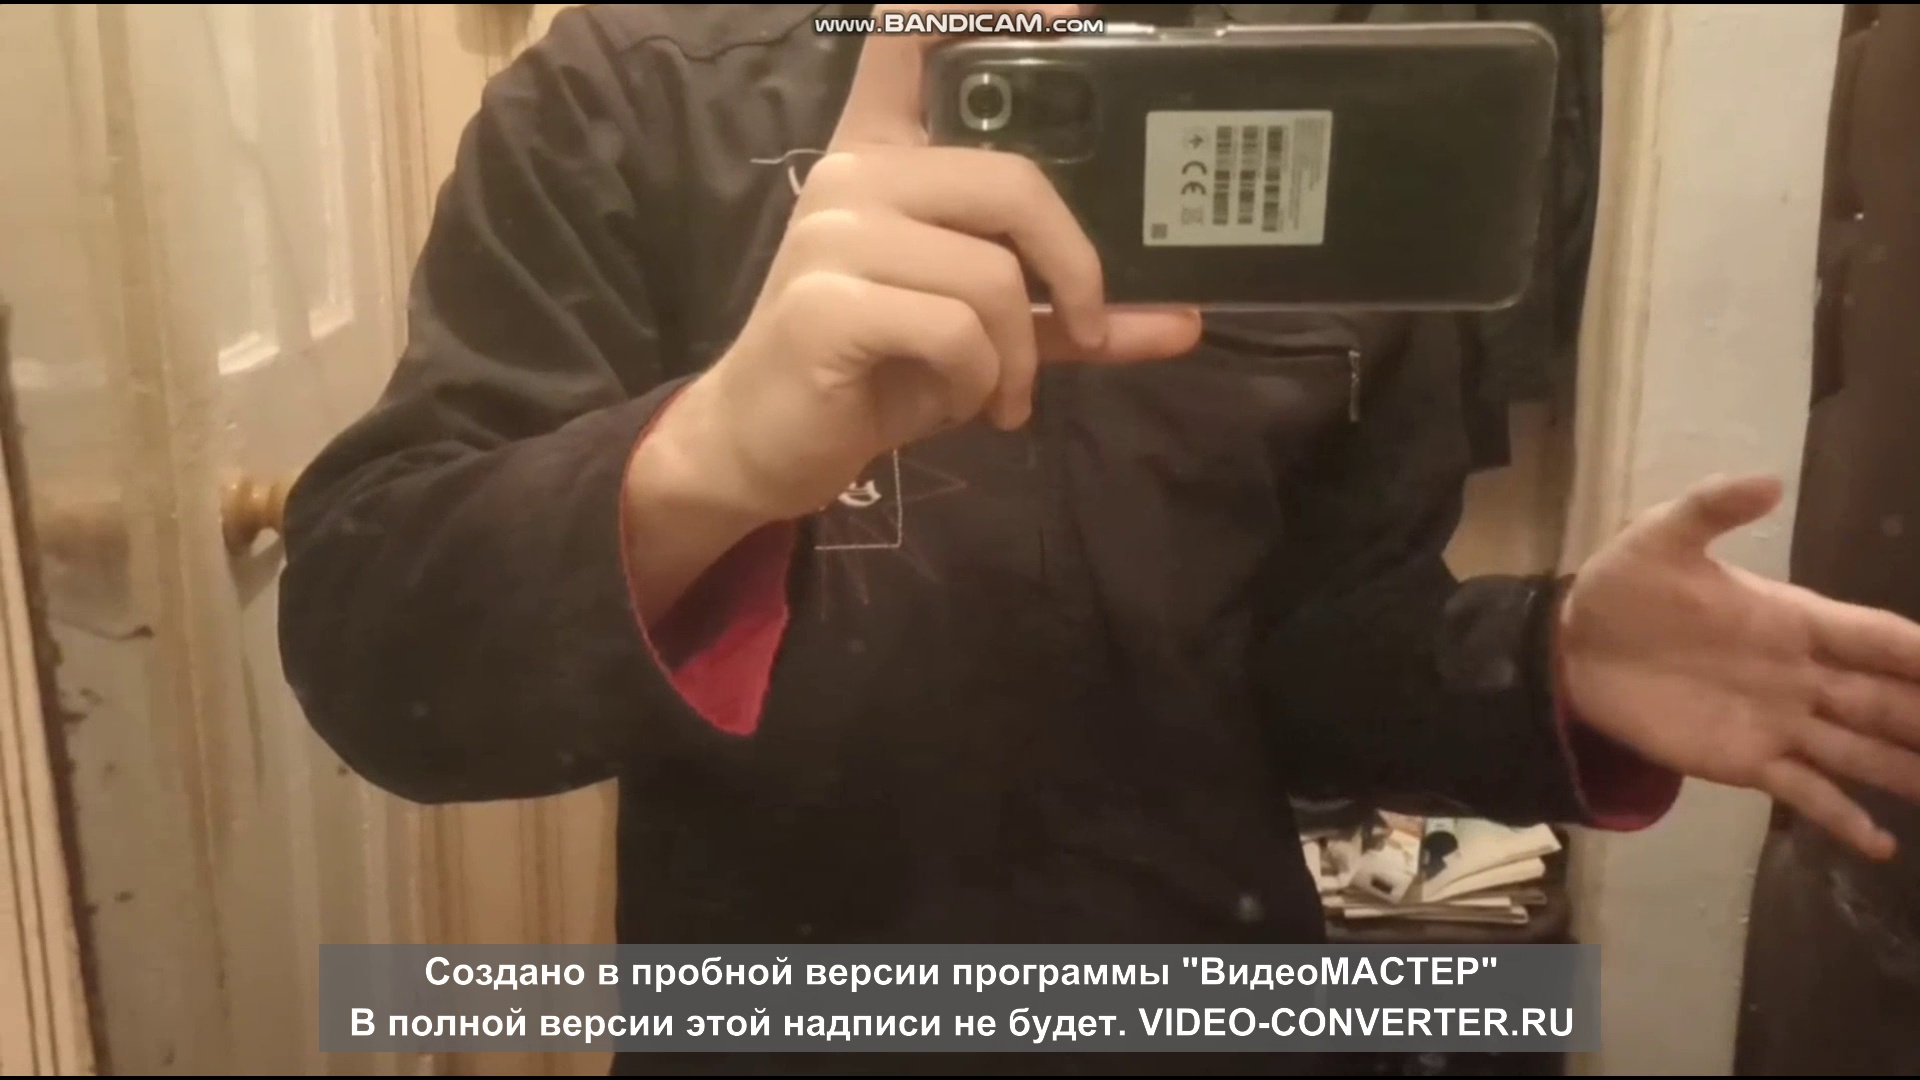Ладонь: (1578, 469, 1920, 856)
